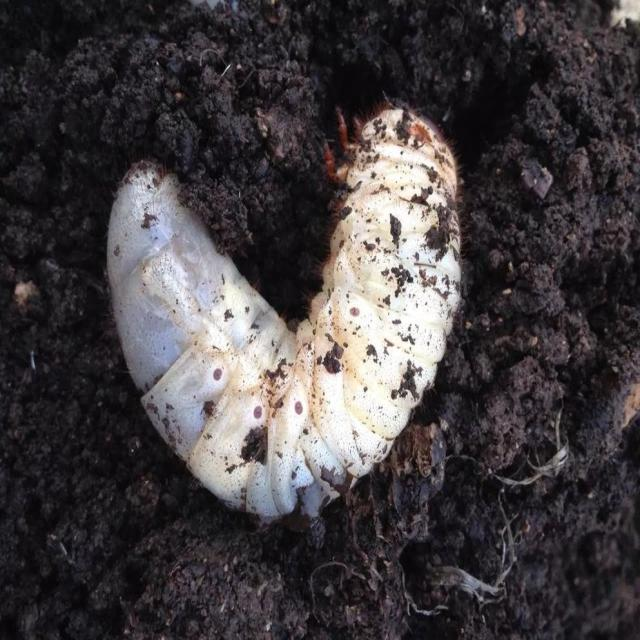grub: (109, 100, 459, 546)
